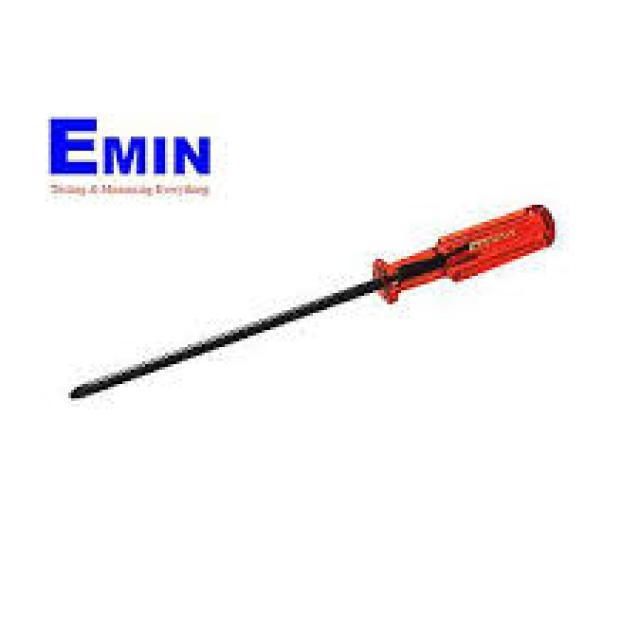screwdriver: (64, 204, 559, 402)
